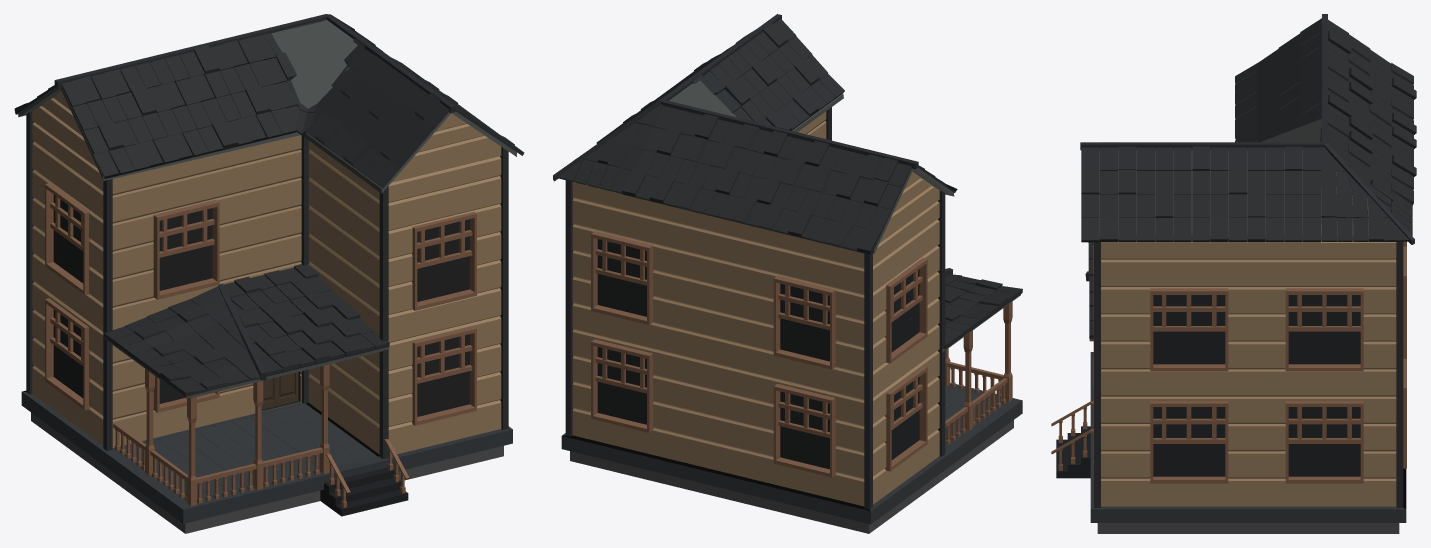
The model's file is FarmHouse_01_B.gltf.
3 renders of one model, left to right at view 1: azimuth 30°, elevation 25°; view 2: azimuth 150°, elevation 25°; view 3: azimuth 270°, elevation 25°, orthographic. The views are drawn at different scales.
Visible parts, largest first — view 1: FarmHouse_01_B, FarmHouseDoor_01_B; view 2: FarmHouse_01_B; view 3: FarmHouse_01_B.
Part boxes in pixels (x1,y1,x2,y2): FarmHouse_01_B: (14,14,524,533); FarmHouseDoor_01_B: (261,372,298,409); FarmHouse_01_B: (553,14,1022,533); FarmHouse_01_B: (1051,14,1416,533).
Size of the model in its own units: 2.57 by 2.65 by 2.42.
